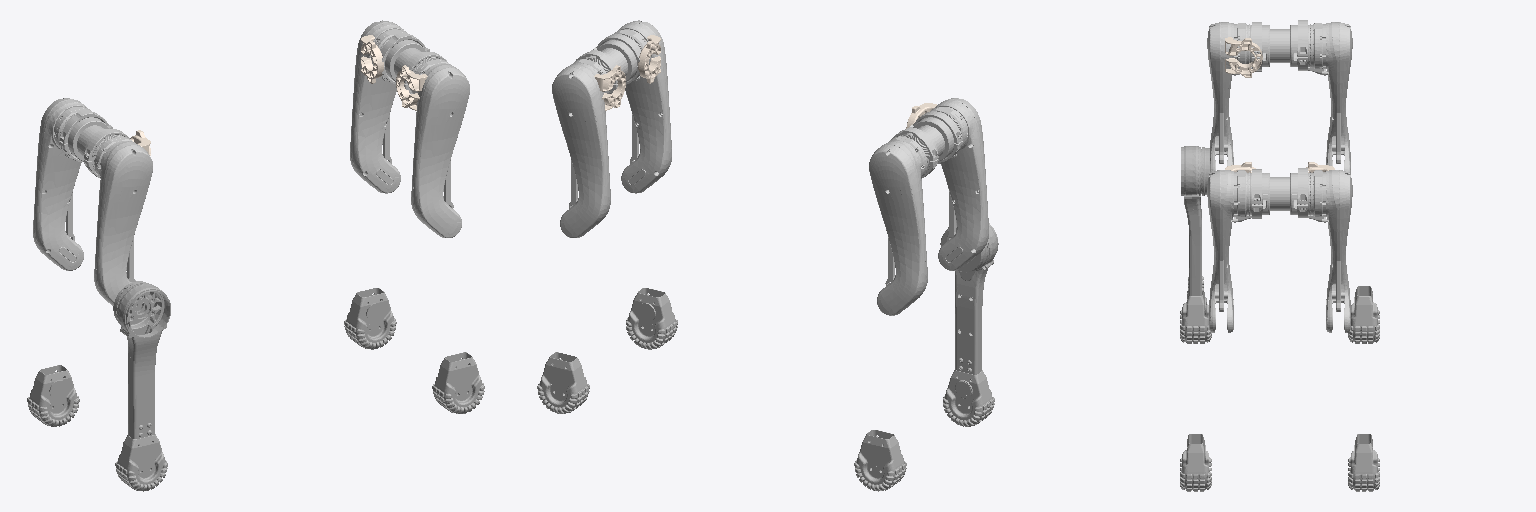
The robot description file, URDF, robot "ZJ_DZ_URDFV1_1":
<?xml version="1.0" encoding="utf-8"?>
<!-- This URDF was automatically created by SolidWorks to URDF Exporter! Originally created by [author] ([email redacted]) 
     Commit Version: 1.6.0-4-g7f85cfe  Build Version: 1.6.7995.38578
     For more information, please see http://wiki.ros.org/sw_urdf_exporter -->
<robot
  name="ZJ_DZ_URDFV1_1">
  <mujoco>
    <compiler meshdir="assets" balanceinertia="true" discardvisual="false"/>
  </mujoco>
  <link
    name="BASE_LINK">
    <inertial>
      <origin
        xyz="-0.001406 0.003450 -0.004835"
        rpy="0 0 0" />
      <mass
        value="17.033" />
      <inertia
        ixx="0.092883"
        ixy="-0.000859"
        ixz="0.000434"
        iyy="0.661860"
        iyz="0.000468"
        izz="0.695859" />
    </inertial>
    <visual>
      <origin
        xyz="0 0 0"
        rpy="0 0 0" />
      <geometry>
        <mesh
          filename="assets/BASE_LINK.STL" />
      </geometry>
      <material
        name="">
        <color
          rgba="0.75294 0.75294 0.75294 1" />
      </material>
    </visual>
    <collision>
      <origin
        xyz="0 0 0"
        rpy="0 0 0" />
      <geometry>
        <mesh
          filename="assets/BASE_LINK.STL" />
      </geometry>
    </collision>
  </link>
  <link
    name="FAR_ABAD_LINK">
    <inertial>
      <origin
        xyz="0.033776 -0.02146 9.6941E-07"
        rpy="0 0 0" />
      <mass
        value="0.19789" />
      <inertia
        ixx="0.00015399"
        ixy="-5.8891E-05"
        ixz="4.5078E-10"
        iyy="0.00022037"
        iyz="-1.9957E-09"
        izz="0.00020921" />
    </inertial>
    <visual>
      <origin
        xyz="0 0 0"
        rpy="0 0 0" />
      <geometry>
        <mesh
          filename="assets/FAR_ABAD_LINK.STL" />
      </geometry>
      <material
        name="">
        <color
          rgba="1 0.94902 0.89804 1" />
      </material>
    </visual>
    <!-- <collision>
      <origin
        xyz="0 0 0"
        rpy="0 0 0" />
      <geometry>
        <mesh
          filename="assets/FAR_ABAD_LINK.STL" />
      </geometry>
    </collision> -->
  </link>
  <joint
    name="FAR_ABAD_JOINT"
    type="revolute">
    <origin
      xyz="0.2698 -0.065 0"
      rpy="0 0 0" />
    <parent
      link="BASE_LINK" />
    <child
      link="FAR_ABAD_LINK" />
    <axis
      xyz="1 0 0" />
    <limit
      lower="-0.697"
      upper="0.523"
      effort="150"
      velocity="24" />
  </joint>
  <link
    name="FAR_HIP_LINK">
    <inertial>
      <origin
        xyz="-0.000032  -0.065021 -0.128154"
        rpy="0 0 0" />
      <mass
        value="2.8754" />
      <inertia
        ixx="0.045202"
        ixy=" -0.000004"
        ixz=" -0.000017"
        iyy="0.044035"
        iyz="-0.008047"
        izz="0.004324" />
    </inertial>
    <visual>
      <origin
        xyz="0 0 0"
        rpy="0 0 0" />
      <geometry>
        <mesh
          filename="assets/FAR_HIP_LINK.STL" />
      </geometry>
      <material
        name="">
        <color
          rgba="0.84706 0.84706 0.84706 1" />
      </material>
    </visual>
    <collision>
      <origin
        xyz="0 -0.07 -0.10"
        rpy="-0.3 0 0" />
      <geometry>
        <box size="0.06 0.015 0.22"/>
      </geometry>
    </collision>
  </link>
  <joint
    name="FAR_HIP_JOINT"
    type="revolute">
    <origin
      xyz="0.0587 -0.045 0"
      rpy="0 0 0" />
    <parent
      link="FAR_ABAD_LINK" />
    <child
      link="FAR_HIP_LINK" />
    <axis
      xyz="0 1 0" />
    <limit
      lower="-2.442"
      upper="2.791"
      effort="150"
      velocity="24" />
  </joint>
  <link
    name="FAR_KNEE_LINK">
    <inertial>
      <origin
        xyz="0.000011 0.004286 -0.115691"
        rpy="0 0 0" />
      <mass
        value="0.86312" />
      <inertia
       ixx="0.010240"
        ixy="0.000000"
        ixz="-0.000002"
        iyy=" 0.010530"
        iyz="0.000021"
        izz="0.000478" />
    </inertial>
    <visual>
      <origin
        xyz="0 0 0"
        rpy="0 0 0" />
      <geometry>
        <mesh
          filename="assets/FAR_KNEE_LINK.STL" />
      </geometry>
      <material
        name="">
        <color
          rgba="0.75294 0.75294 0.75294 1" />
      </material>
    </visual>
    <collision>
      <origin
        xyz="0.005 0 -0.09"
        rpy="0 -0.02 0" />
      <geometry>
        <box size="0.03 0.03 0.22"/>
      </geometry>
    </collision>
  </link>
  <joint
    name="FAR_KNEE_JOINT"
    type="revolute">
    <origin
      xyz="0 -0.0522 -0.26"
      rpy="0 0 0" />
    <parent
      link="FAR_HIP_LINK" />
    <child
      link="FAR_KNEE_LINK" />
    <axis
      xyz="0 1 0" />
    <limit
      lower="-2.791"
      upper="2.791"
      effort="150"
      velocity="24" />
  </joint>
 <link
    name="FAR_FOOT_LINK">
    <inertial>
      <origin
        xyz="0.000002 0.013146 -0.026563"
        rpy="0 0 0" />
      <mass
        value="0.340285" />
      <inertia
        ixx="0.000248"
        ixy="0.000000"
        ixz="0.000000"
        iyy="0.000346"
        iyz="-0.000004"
        izz="0.000202" />
    </inertial>
    <visual>
      <origin
        xyz="0 0 0"
        rpy="0 0 0" />
      <geometry>
        <mesh
          filename="assets/FAR_FOOT_LINK.STL" />
      </geometry>
      <material
        name="">
        <color
          rgba="0.75294 0.75294 0.75294 1" />
      </material>
    </visual>
    <collision>
      <origin
        xyz="0 0.012 -0.032"
        rpy="0 0 0" />
      <geometry>
        <sphere radius="0.04" />
      </geometry>
    </collision>
  </link>
  <joint
    name="FAR_FOOT_JOINT"
   type="fixed" dont_collapse="true">
    <origin
      xyz="0 -0.0088 -0.28"
      rpy="0 0 0" />
    <parent
      link="FAR_KNEE_LINK" />
    <child
      link="FAR_FOOT_LINK" />
    <axis
      xyz="0 0 0" />
  </joint>
  <link
    name="FBL_ABAD_LINK">
    <inertial>
      <origin
        xyz="0.033776 0.02146 -9.6941E-07"
        rpy="0 0 0" />
      <mass
        value="0.19789" />
      <inertia
        ixx="0.00015399"
        ixy="-5.8891E-05"
        ixz="-4.5078E-10"
        iyy="0.00022037"
        iyz="-1.9957E-09"
        izz="0.00020921" />
    </inertial>
    <visual>
      <origin
        xyz="0 0 0"
        rpy="0 0 0" />
      <geometry>
        <mesh
          filename="assets/FBL_ABAD_LINK.STL" />
      </geometry>
      <material
        name="">
        <color
          rgba="1 0.94902 0.89804 1" />
      </material>
    </visual>
    <!-- <collision>
      <origin
        xyz="0 0 0"
        rpy="0 0 0" />
      <geometry>
        <mesh
          filename="assets/FBL_ABAD_LINK.STL" />
      </geometry>
    </collision> -->
  </link>
  <joint
    name="FBL_ABAD_JOINT"
    type="revolute">
    <origin
      xyz="0.2698 0.065 0"
      rpy="0 0 0" />
    <parent
      link="BASE_LINK" />
    <child
      link="FBL_ABAD_LINK" />
    <axis
      xyz="1 0 0" />
    <limit
      lower="-0.523"
      upper="0.697"
      effort="150"
      velocity="24" />
  </joint>
  <link
    name="FBL_HIP_LINK">
    <inertial>
      <origin
        xyz="0.000037 0.065021 -0.128154"
        rpy="0 0 0" />
      <mass
        value="2.8754" />
      <inertia
        ixx="0.045202"
        ixy="-0.000005"
        ixz="0.000019"
        iyy="0.044035"
        iyz="0.008047"
        izz=" 0.004324" />
    </inertial>
    <visual>
      <origin
        xyz="0 0 0"
        rpy="0 0 0" />
      <geometry>
        <mesh
          filename="assets/FBL_HIP_LINK.STL" />
      </geometry>
      <material
        name="">
        <color
          rgba="0.84706 0.84706 0.84706 1" />
      </material>
    </visual>
    <collision>
      <origin
        xyz="0 0.07 -0.10"
        rpy="0.3 0 0" />
      <geometry>
        <box size="0.06 0.015 0.22"/>
      </geometry>
    </collision>
  </link>
  <joint
    name="FBL_HIP_JOINT"
    type="revolute">
    <origin
      xyz="0.0587 0.045 0"
      rpy="0 0 0" />
    <parent
      link="FBL_ABAD_LINK" />
    <child
      link="FBL_HIP_LINK" />
    <axis
      xyz="0 1 0" />
    <limit
      lower="-2.442"
      upper="2.791"
      effort="150"
      velocity="24" />
  </joint>
  <link
    name="FBL_KNEE_LINK">
    <inertial>
      <origin
        xyz="-0.000011 -0.004286 -0.115691"
        rpy="0 0 0" />
      <mass
        value="0.86312" />
      <inertia
        ixx="0.010240"
        ixy="0.000000"
        ixz="0.000002"
        iyy="0.010530"
        iyz="-0.000021"
        izz="0.000478" />
    </inertial>
    <visual>
      <origin
        xyz="0 0 0"
        rpy="0 0 0" />
      <geometry>
        <mesh
          filename="assets/FBL_KNEE_LINK.STL" />
      </geometry>
      <material
        name="">
        <color
          rgba="0.75294 0.75294 0.75294 1" />
      </material>
    </visual>
    <collision>
      <origin
        xyz="0.005 0 -0.09"
        rpy="0 -0.02 0" />
      <geometry>
        <box size="0.03 0.03 0.22"/>
      </geometry>
    </collision>
  </link>
  <joint
    name="FBL_KNEE_JOINT"
    type="revolute">
    <origin
      xyz="1.113E-05 0.0522 -0.26"
      rpy="0 -4.2809E-05 0" />
    <parent
      link="FBL_HIP_LINK" />
    <child
      link="FBL_KNEE_LINK" />
    <axis
      xyz="0 1 0" />
    <limit
      lower="-2.791"
      upper="2.791"
      effort="150"
      velocity="24" />
  </joint>
<link
    name="FBL_FOOT_LINK">
    <inertial>
      <origin
        xyz="-0.000002 -0.013146 -0.026563"
        rpy="0 0 0" />
      <mass
        value="0.340285" />
      <inertia
        ixx="0.000248"
        ixy="0.000000"
        ixz="0.000000"
        iyy="0.000346"
        iyz="0.000004"
        izz="0.000202" />
    </inertial>
    <visual>
      <origin
        xyz="0 0 0"
        rpy="0 0 0" />
      <geometry>
        <mesh
          filename="assets/FBL_FOOT_LINK.STL" />
      </geometry>
      <material
        name="">
        <color
          rgba="0.75294 0.75294 0.75294 1" />
      </material>
    </visual>
    <collision>
      <origin
        xyz="0 -0.012 -0.032"
        rpy="0 0 0" />
      <geometry>
        <sphere radius="0.04" />
      </geometry>
    </collision>
  </link>
  <joint
    name="FBL_FOOT_JOINT"
    type="fixed" dont_collapse="true">
    <origin
      xyz="0 0.0088 -0.28"
      rpy="0 0 0" />
    <parent
      link="FBL_KNEE_LINK" />
    <child
      link="FBL_FOOT_LINK" />
    <axis
      xyz="0 0 0" />
  </joint>
  <link
    name="RAR_ABAD_LINK">
    <inertial>
      <origin
        xyz="-0.033776 -0.02146 -9.6931E-07"
        rpy="0 0 0" />
      <mass
        value="0.19789" />
      <inertia
        ixx="0.00015399"
        ixy="-5.8891E-05"
        ixz="-4.5057E-10"
        iyy="0.00022037"
        iyz="-1.9962E-09"
        izz="0.00020921" />
    </inertial>
    <visual>
      <origin
        xyz="0 0 0"
        rpy="0 0 0" />
      <geometry>
        <mesh
          filename="assets/RAR_ABAD_LINK.STL" />
      </geometry>
      <material
        name="">
        <color
          rgba="1 0.94902 0.89804 1" />
      </material>
    </visual>
    <!-- <collision>
      <origin
        xyz="0 0 0"
        rpy="0 0 0" />
      <geometry>
        <mesh
          filename="assets/RAR_ABAD_LINK.STL" />
      </geometry>
    </collision> -->
  </link>
  <joint
    name="RAR_ABAD_JOINT"
    type="revolute">
    <origin
      xyz="-0.2698 -0.065 0"
      rpy="0 0 0" />
    <parent
      link="BASE_LINK" />
    <child
      link="RAR_ABAD_LINK" />
    <axis
      xyz="1 0 0" />
    <limit
      lower="-0.697"
      upper="0.523"
      effort="150"
      velocity="24" />
  </joint>
  <link
    name="RAR_HIP_LINK">
    <inertial>
      <origin
        xyz="-0.000037 -0.065021 -0.128154"
        rpy="0 0 0" />
      <mass
        value="2.8754" />
      <inertia
        ixx="0.045202"
        ixy=" -0.000005"
        ixz="-0.000019"
        iyy=" 0.044035"
        iyz="-0.008047"
        izz="0.004324" />
    </inertial>
    <visual>
      <origin
        xyz="0 0 0"
        rpy="0 0 0" />
      <geometry>
        <mesh
          filename="assets/RAR_HIP_LINK.STL" />
      </geometry>
      <material
        name="">
        <color
          rgba="0.847058823529412 0.847058823529412 0.847058823529412 1" />
      </material>
    </visual>
    <collision>
      <origin
        xyz="0 -0.07 -0.10"
        rpy="-0.3 0 0" />
      <geometry>
        <box size="0.06 0.015 0.22"/>
      </geometry>
    </collision>
  </link>
  <joint
    name="RAR_HIP_JOINT"
    type="revolute">
    <origin
      xyz="-0.0587 -0.045 0"
      rpy="0 0 0" />
    <parent
      link="RAR_ABAD_LINK" />
    <child
      link="RAR_HIP_LINK" />
    <axis
      xyz="0 1 0" />
    <limit
      lower="-2.791"
      upper="2.442"
      effort="150"
      velocity="24" />
  </joint>
  <link
    name="RAR_KNEE_LINK">
    <inertial>
      <origin
        xyz="0.000011 0.004286 -0.115691"
        rpy="0 0 0" />
      <mass
        value="0.86312" />
      <inertia
        ixx="0.010240"
        ixy="0.000000"
        ixz="-0.000002"
        iyy="0.010530"
        iyz=" 0.000021"
        izz="0.000478" />
    </inertial>
    <visual>
      <origin
        xyz="0 0 0"
        rpy="0 0 0" />
      <geometry>
        <mesh
          filename="assets/RAR_KNEE_LINK.STL" />
      </geometry>
      <material
        name="">
        <color
          rgba="0.75294 0.75294 0.75294 1" />
      </material>
    </visual>
    <collision>
      <origin
        xyz="0.005 0 -0.09"
        rpy="0 -0.02 0" />
      <geometry>
        <box size="0.03 0.03 0.22"/>
      </geometry>
    </collision>
  </link>
  <joint
    name="RAR_KNEE_JOINT"
    type="revolute">
    <origin
      xyz="-1.113E-05 -0.0522 -0.26"
      rpy="0 4.2809E-05 0" />
    <parent
      link="RAR_HIP_LINK" />
    <child
      link="RAR_KNEE_LINK" />
    <axis
      xyz="0 1 0" />
    <limit
      lower="-2.791"
      upper="2.791"
      effort="150"
      velocity="24" />
  </joint>
 <link
    name="RAR_FOOT_LINK">
    <inertial>
      <origin
        xyz="0.000002 0.013146 -0.026563"
        rpy="0 0 0" />
      <mass
        value="0.340285" />
      <inertia
        ixx="0.000248"
        ixy="0.000000"
        ixz="0.000000"
        iyy="0.000346"
        iyz="-0.000004"
        izz="0.000202" />
    </inertial>
    <visual>
      <origin
        xyz="0 0 0"
        rpy="0 0 0" />
      <geometry>
        <mesh
          filename="assets/RAR_FOOT_LINK.STL" />
      </geometry>
      <material
        name="">
        <color
          rgba="0.75294 0.75294 0.75294 1" />
      </material>
    </visual>
    <collision>
      <origin
        xyz="0 0.012 -0.032"
        rpy="0 0 0" />
      <geometry>
        <sphere radius="0.04" />
      </geometry>
    </collision>
  </link>
  <joint
    name="RAR_FOOT_JOINT"
   type="fixed" dont_collapse="true">
    <origin
      xyz="0 -0.0088 -0.28"
      rpy="0 0 0" />
    <parent
      link="RAR_KNEE_LINK" />
    <child
      link="RAR_FOOT_LINK" />
    <axis
      xyz="0 0 0" />
  </joint>
  <link
    name="RBL_ABAD_LINK">
    <inertial>
      <origin
        xyz="-0.033776 0.02146 9.6918E-07"
        rpy="0 0 0" />
      <mass
        value="0.19789" />
      <inertia
        ixx="0.00015399"
        ixy="5.8891E-05"
        ixz="-4.5019E-10"
        iyy="0.00022037"
        iyz="-1.9967E-09"
        izz="0.00020921" />
    </inertial>
    <visual>
      <origin
        xyz="0 0 0"
        rpy="0 0 0" />
      <geometry>
        <mesh
          filename="assets/RBL_ABAD_LINK.STL" />
      </geometry>
      <material
        name="">
        <color
          rgba="1 0.94902 0.89804 1" />
      </material>
    </visual>
    <!-- <collision>
      <origin
        xyz="0 0 0"
        rpy="0 0 0" />
      <geometry>
        <mesh
          filename="assets/RBL_ABAD_LINK.STL" />
      </geometry>
    </collision> -->
  </link>
  <joint
    name="RBL_ABAD_JOINT"
    type="revolute">
    <origin
      xyz="-0.2698 0.065 0"
      rpy="0 0 0" />
    <parent
      link="BASE_LINK" />
    <child
      link="RBL_ABAD_LINK" />
    <axis
      xyz="1 0 0" />
    <limit
      lower="-0.523"
      upper="0.697"
      effort="150"
      velocity="24" />
  </joint>
  <link
    name="RBL_HIP_LINK">
    <inertial>
      <origin
        xyz="0.000037 0.065021 -0.128154"
        rpy="0 0 0" />
      <mass
        value="2.8754" />
      <inertia
        ixx=" 0.045202"
        ixy="-0.000005"
        ixz="0.000019"
        iyy="0.044035"
        iyz="0.008047"
        izz="0.004324" />
    </inertial>
    <visual>
      <origin
        xyz="0 0 0"
        rpy="0 0 0" />
      <geometry>
        <mesh
          filename="assets/RBL_HIP_LINK.STL" />
      </geometry>
      <material
        name="">
        <color
          rgba="0.84706 0.84706 0.84706 1" />
      </material>
    </visual>
    <collision>
      <origin
        xyz="0 0.07 -0.10"
        rpy="0.3 0 0" />
      <geometry>
        <box size="0.06 0.015 0.22"/>
      </geometry>
    </collision>
  </link>
  <joint
    name="RBL_HIP_JOINT"
    type="revolute">
    <origin
      xyz="-0.0587 0.045 0"
      rpy="0 0 0" />
    <parent
      link="RBL_ABAD_LINK" />
    <child
      link="RBL_HIP_LINK" />
    <axis
      xyz="0 1 0" />
    <limit
      lower="-2.791"
      upper="2.442"
      effort="150"
      velocity="24" />
  </joint>
  <link
    name="RBL_KNEE_LINK">
    <inertial>
      <origin
        xyz=" -0.000011 -0.004286 -0.115691"
        rpy="0 0 0" />
      <mass
        value="0.86312" />
      <inertia
       ixx="0.010240"
        ixy="0.000000"
        ixz="0.000002"
        iyy=" 0.010530"
        iyz="-0.000021"
        izz=" 0.000478" />
    </inertial>
    <visual>
      <origin
        xyz="0 0 0"
        rpy="0 0 0" />
      <geometry>
        <mesh
          filename="assets/RBL_KNEE_LINK.STL" />
      </geometry>
      <material
        name="">
        <color
          rgba="0.752941176470588 0.752941176470588 0.752941176470588 1" />
      </material>
    </visual>
    <collision>
      <origin
        xyz="0.005 0 -0.09"
        rpy="0 -0.02 0" />
      <geometry>
        <box size="0.03 0.03 0.22"/>
      </geometry>
    </collision>
  </link>
  <joint
    name="RBL_KNEE_JOINT"
    type="revolute">
    <origin
      xyz="1.1131E-05 0.0522 -0.26"
      rpy="0 -4.2811E-05 0" />
    <parent
      link="RBL_HIP_LINK" />
    <child
      link="RBL_KNEE_LINK" />
    <axis
      xyz="0 1 0" />
    <limit
      lower="-2.791"
      upper="2.791"
      effort="150"
      velocity="24" />
  </joint>
 <link
    name="RBL_FOOT_LINK">
    <inertial>
      <origin
        xyz="-0.000002 -0.013146 -0.026563"
        rpy="0 0 0" />
      <mass
        value="0.340285" />
      <inertia
        ixx="0.000248"
        ixy="0.000000"
        ixz="0.000000"
        iyy="0.000346"
        iyz="0.000000"
        izz="0.000202" />
    </inertial>
    <visual>
      <origin
        xyz="0 0 0"
        rpy="0 0 0" />
      <geometry>
        <mesh
          filename="assets/RBL_FOOT_LINK.STL" />
      </geometry>
      <material
        name="">
        <color
          rgba="0.75294 0.75294 0.75294 1" />
      </material>
    </visual>
    <collision>
      <origin
        xyz="0 -0.012 -0.032"
        rpy="0 0 0" />
      <geometry>
        <sphere radius="0.04" />
      </geometry>
    </collision>
  </link>
  <joint
    name="RBL_FOOT_JOINT"
    type="fixed" dont_collapse="true">
    <origin
      xyz="0 0.0088 -0.28"
      rpy="0 0 0" />
    <parent
      link="RBL_KNEE_LINK" />
    <child
      link="RBL_FOOT_LINK" />
    <axis
      xyz="0 0 0" />
  </joint>
</robot>

--- Facts derived from the render (not from the file) ---
3 views of the same robot in one strip: view 1: azimuth 30°, elevation 25°; view 2: azimuth 150°, elevation 25°; view 3: azimuth 270°, elevation 25° (orthographic).
Robot: ZJ_DZ_URDFV1_1 — 17 links, 16 joints (12 revolute, 4 fixed); root link BASE_LINK; default pose: every joint at zero.
Visible links, largest first — view 1: FAR_HIP_LINK, RAR_HIP_LINK, RBL_HIP_LINK, FBL_HIP_LINK, RAR_KNEE_LINK, FAR_FOOT_LINK, RBL_FOOT_LINK, FBL_FOOT_LINK, RAR_FOOT_LINK, FAR_ABAD_LINK, FBL_ABAD_LINK; view 2: RBL_HIP_LINK, FBL_HIP_LINK, RAR_HIP_LINK, FAR_HIP_LINK, RAR_KNEE_LINK, FAR_FOOT_LINK, FBL_FOOT_LINK, RBL_FOOT_LINK, RAR_FOOT_LINK, FBL_ABAD_LINK, FAR_ABAD_LINK; view 3: FAR_HIP_LINK, FBL_HIP_LINK, RBL_HIP_LINK, RAR_HIP_LINK, RAR_KNEE_LINK, FAR_FOOT_LINK, FBL_FOOT_LINK, RBL_FOOT_LINK, RAR_FOOT_LINK, RAR_ABAD_LINK.
Link boxes in pixels (x1,y1,x2,y2): FAR_HIP_LINK: (398,52,469,237); RAR_HIP_LINK: (81,129,152,305); RBL_HIP_LINK: (33,98,112,270); FBL_HIP_LINK: (350,20,429,193); RAR_KNEE_LINK: (113,281,170,445); FAR_FOOT_LINK: (432,352,484,413); RBL_FOOT_LINK: (27,365,79,426); FBL_FOOT_LINK: (344,288,396,349); RAR_FOOT_LINK: (115,434,167,491); FAR_ABAD_LINK: (396,65,427,110); FBL_ABAD_LINK: (361,35,383,83); RBL_HIP_LINK: (869,127,940,315); FBL_HIP_LINK: (552,50,623,237); RAR_HIP_LINK: (910,98,988,270); FAR_HIP_LINK: (593,20,671,193); RAR_KNEE_LINK: (940,221,998,398); FAR_FOOT_LINK: (626,288,677,349); FBL_FOOT_LINK: (537,352,589,413); RBL_FOOT_LINK: (854,430,906,491); RAR_FOOT_LINK: (943,370,994,426); FBL_ABAD_LINK: (594,65,625,110); FAR_ABAD_LINK: (638,35,660,83); FAR_HIP_LINK: (1207,169,1281,332); FBL_HIP_LINK: (1278,168,1352,332); RBL_HIP_LINK: (1278,20,1352,173); RAR_HIP_LINK: (1207,22,1281,171); RAR_KNEE_LINK: (1181,146,1209,314); FAR_FOOT_LINK: (1180,434,1211,491); FBL_FOOT_LINK: (1348,434,1379,491); RBL_FOOT_LINK: (1348,286,1379,343); RAR_FOOT_LINK: (1180,291,1211,343); RAR_ABAD_LINK: (1225,37,1262,77).
Bounding box of the posed robot: 0.7718 × 0.3764 × 0.6622 m (x, y, z).
12 mesh visuals loaded from 17 distinct referenced files (12 binary STL); not drawn: 1 (reference not matched to a file when rendering), 4 (file found but could not be loaded).
